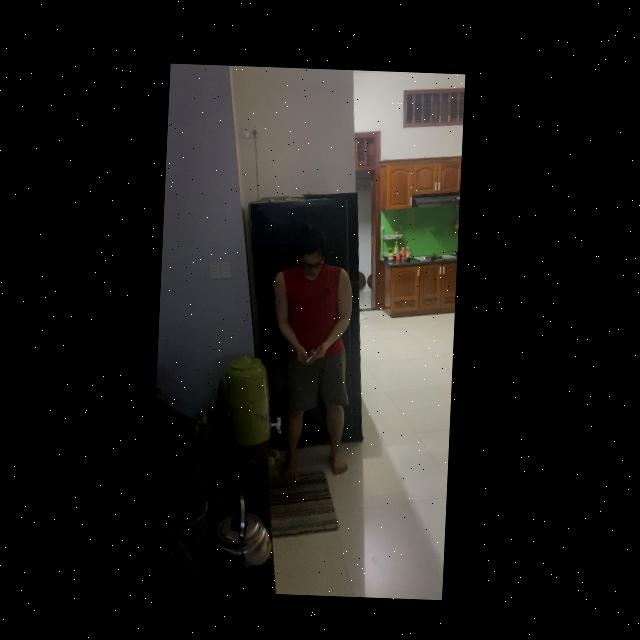cigarette: (309, 349, 319, 360)
